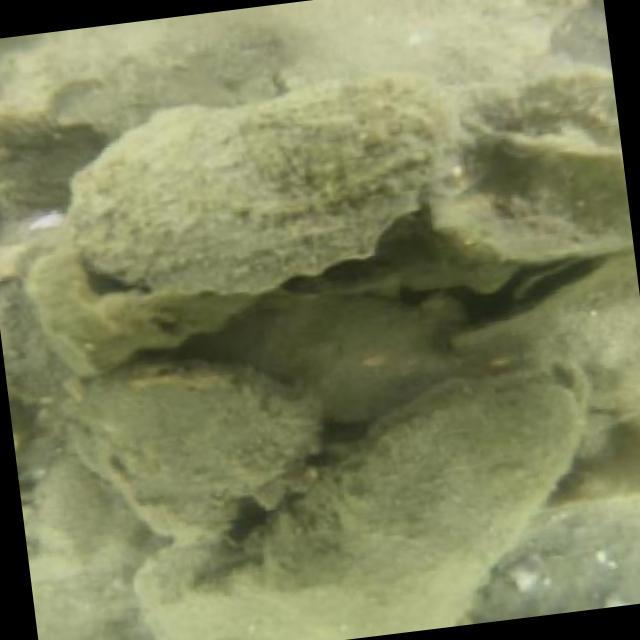Oyster- Indeterminate: (61, 78, 463, 294), (212, 293, 452, 421), (459, 255, 640, 415)
Oyster-Closed: (255, 357, 590, 622), (66, 363, 311, 536)
Oyster-Open: (511, 249, 595, 312)
